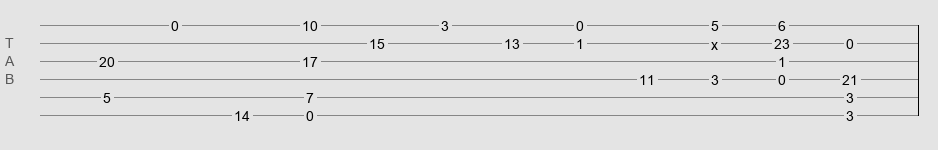0: (171, 18, 179, 28), (306, 108, 314, 118), (576, 18, 584, 28), (778, 72, 786, 82), (846, 36, 854, 46)
1: (576, 36, 584, 46), (778, 54, 786, 64)
10: (302, 18, 318, 28)
11: (639, 72, 655, 82)
13: (504, 36, 520, 46)
14: (234, 108, 250, 118)
15: (369, 36, 385, 46)
17: (302, 54, 318, 64)
20: (99, 54, 115, 64)
21: (842, 72, 858, 82)
23: (774, 36, 790, 46)
3: (441, 18, 449, 28), (711, 72, 719, 82), (846, 108, 854, 118), (846, 90, 854, 100)
5: (103, 90, 111, 100), (711, 18, 719, 28)
6: (778, 18, 786, 28)
7: (306, 90, 314, 100)
x: (711, 37, 718, 45)
